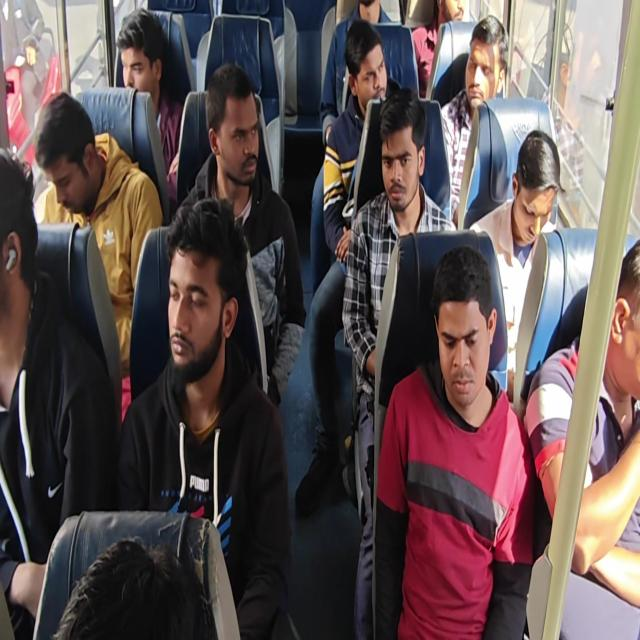person: (51, 531, 219, 640), (162, 188, 242, 378), (430, 243, 508, 430), (200, 59, 284, 181), (33, 84, 105, 212), (506, 128, 574, 262), (374, 87, 434, 225), (603, 233, 640, 444), (114, 5, 177, 123), (0, 143, 36, 317), (462, 7, 518, 111), (336, 21, 393, 108), (435, 0, 472, 43), (354, 0, 392, 35)
